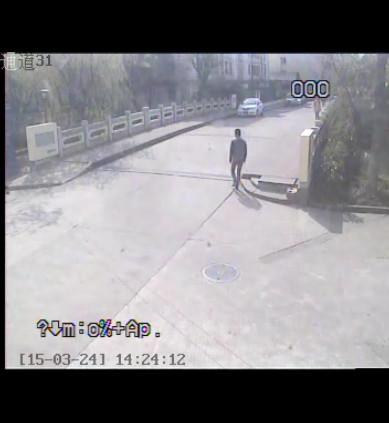person: (228, 129, 250, 189), (310, 96, 322, 121)
